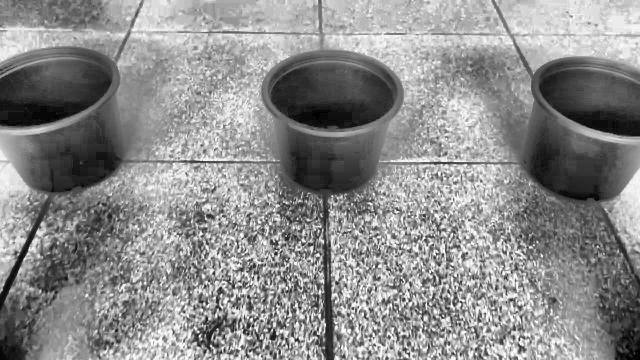pot: (261, 50, 404, 194), (0, 47, 126, 194), (521, 56, 640, 202)
